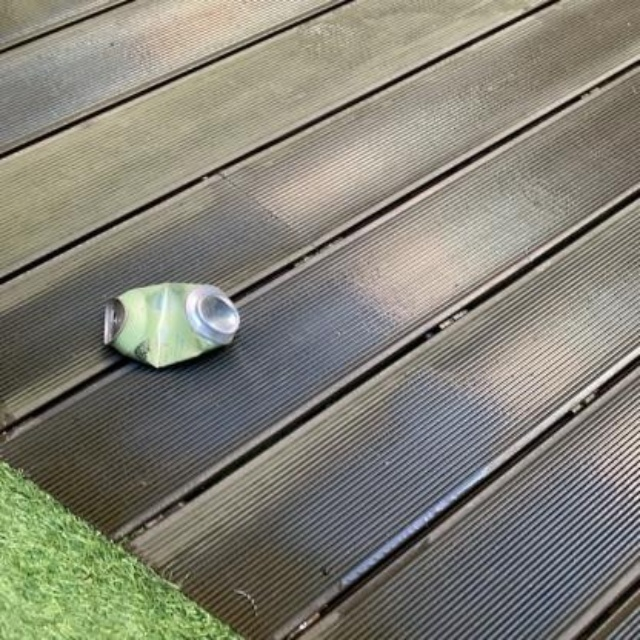trash: (103, 283, 238, 366)
